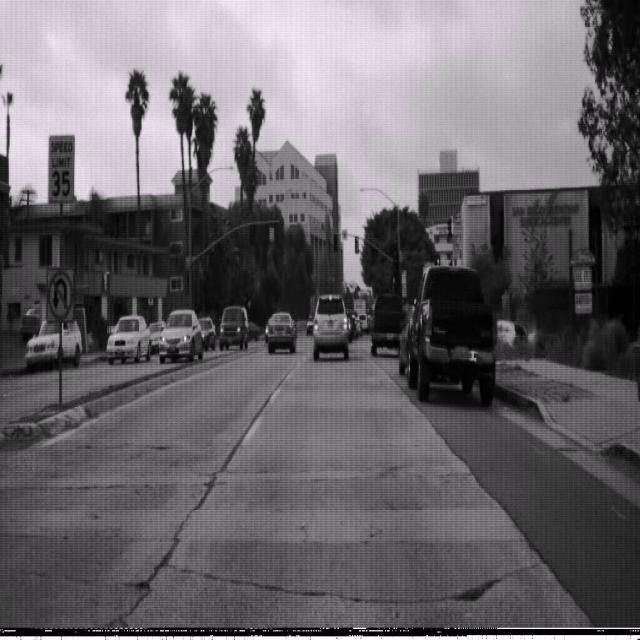speedLimit35: (46, 132, 76, 204)
